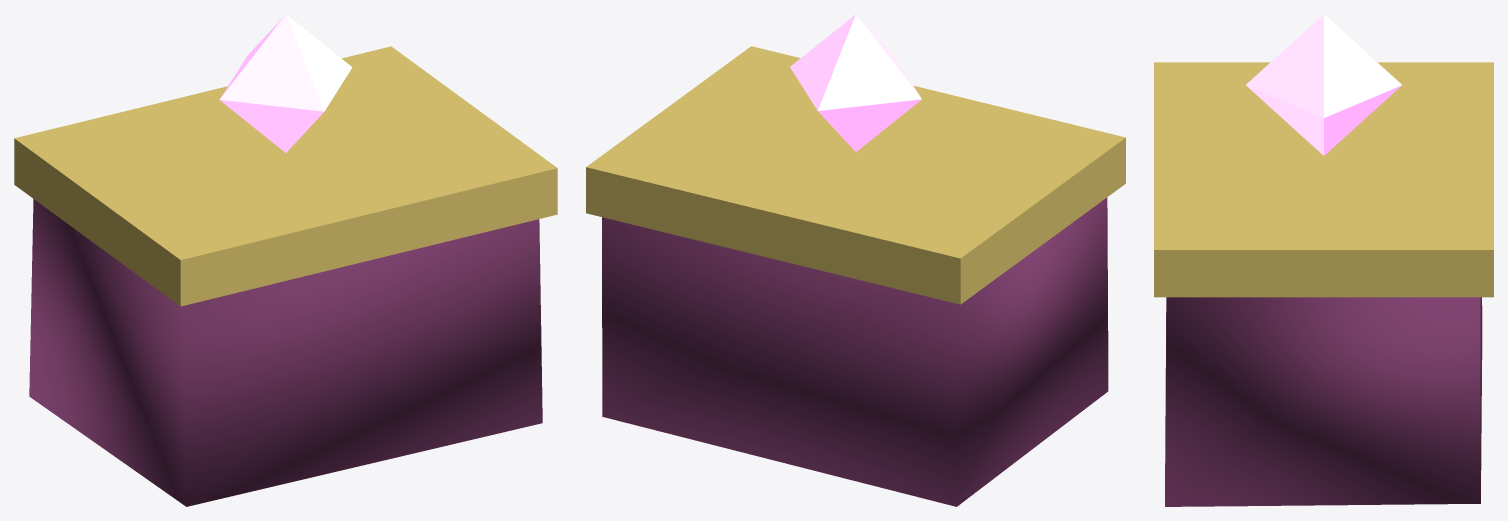
File: drop_jewelry.glb
The picture shows the model from 3 angles, left to right: view 1: azimuth 30°, elevation 25°; view 2: azimuth 150°, elevation 25°; view 3: azimuth 270°, elevation 25°; orthographic projection. The views are drawn at different scales.
Parts seen in each view (by area): view 1: item_jewelBox, item_dropTie, item_jewelSpark; view 2: item_jewelBox, item_dropTie, item_jewelSpark; view 3: item_dropTie, item_jewelBox, item_jewelSpark.
Boxes of the visible parts, box(x1,y1,x2,y2) form: item_jewelBox: box(29, 199, 542, 506); item_dropTie: box(14, 46, 557, 306); item_jewelSpark: box(219, 14, 352, 152); item_jewelBox: box(602, 197, 1108, 506); item_dropTie: box(586, 46, 1125, 304); item_jewelSpark: box(790, 14, 921, 151); item_dropTie: box(1154, 62, 1493, 297); item_jewelBox: box(1165, 297, 1482, 506); item_jewelSpark: box(1246, 14, 1401, 155).
Size of the model in its own units: 0.221 by 0.2217 by 0.169.
